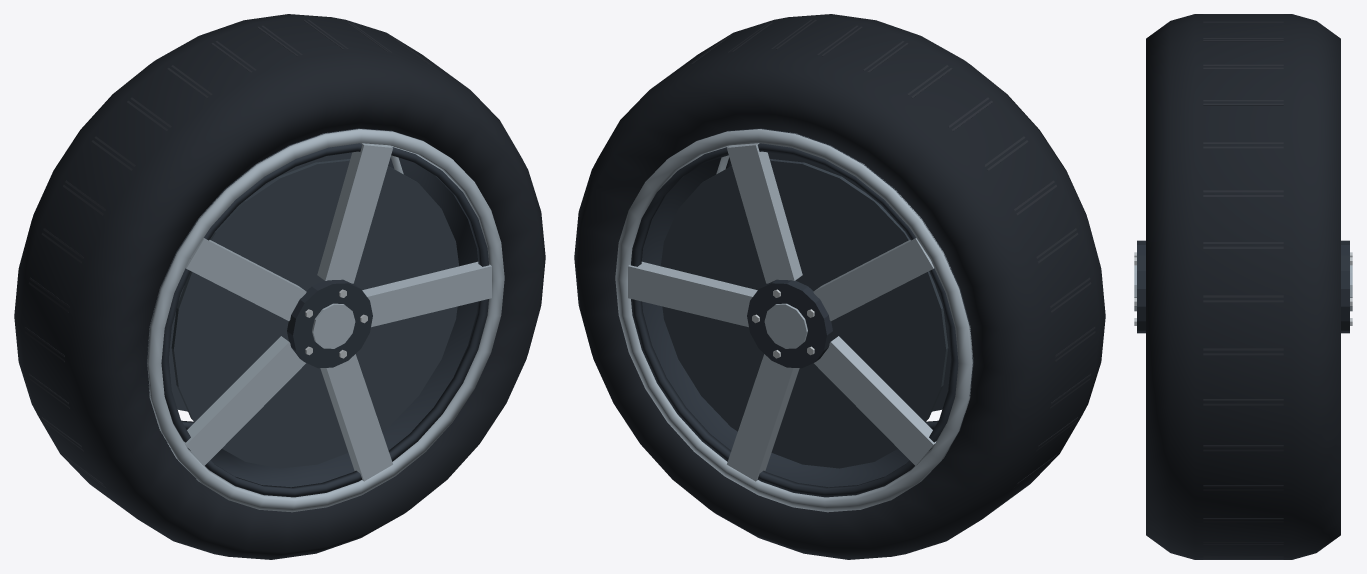
File: star.glb
3 views of the same model, side by side, from view 1: azimuth 30°, elevation 25°; view 2: azimuth 150°, elevation 25°; view 3: azimuth 270°, elevation 25° (orthographic).
Visible parts, largest first — view 1: wheel; view 2: wheel; view 3: wheel.
Part boxes in pixels (x1=…): wheel: x1=14, y1=14, x2=545, y2=559; wheel: x1=574, y1=14, x2=1105, y2=559; wheel: x1=1134, y1=14, x2=1352, y2=559.
Bounding box in the file's own units: 2 × 2 × 0.8.
